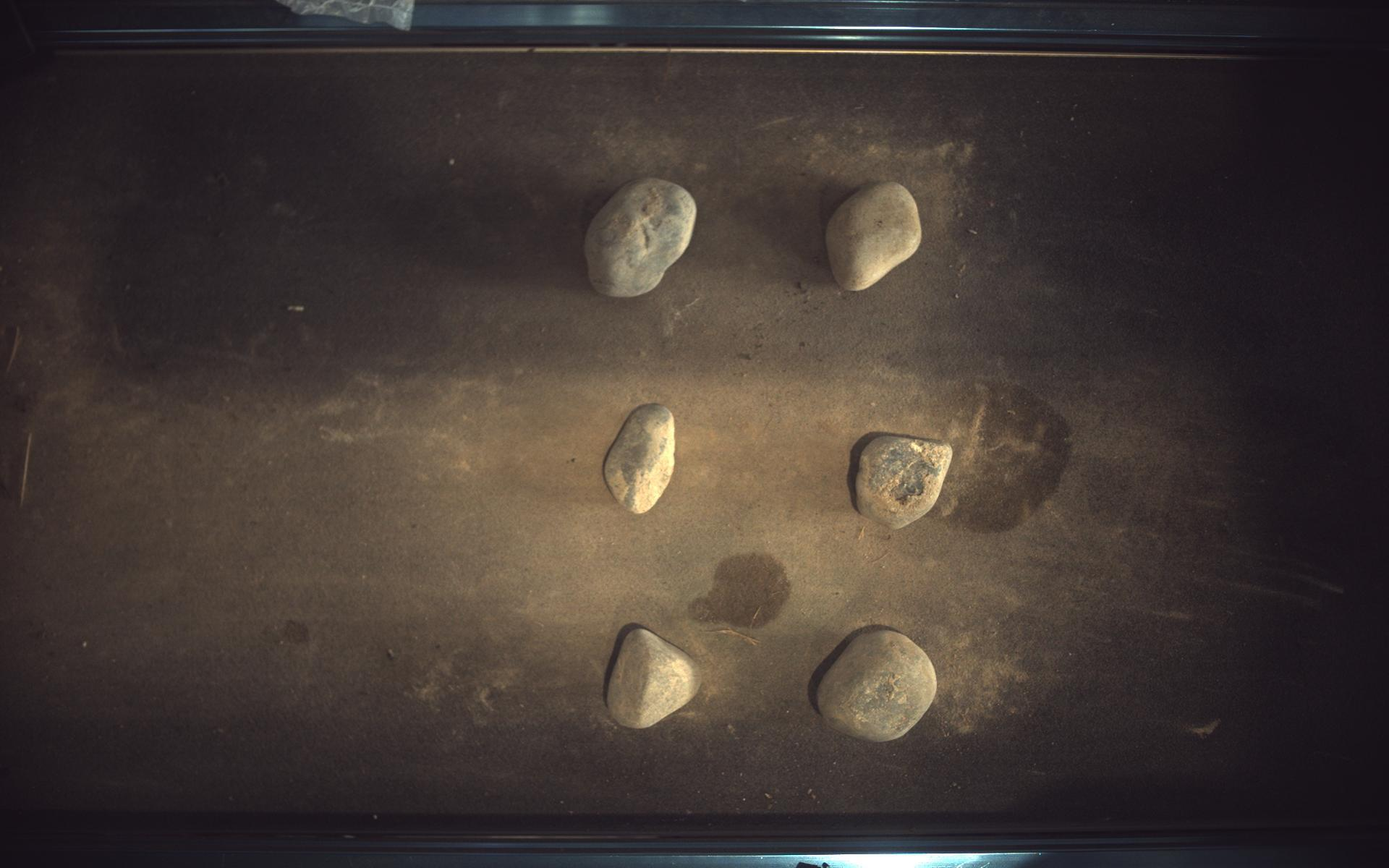stone: (585, 177, 697, 297), (819, 631, 939, 743), (828, 181, 924, 291), (607, 629, 702, 730), (857, 435, 954, 529), (604, 404, 676, 514)
